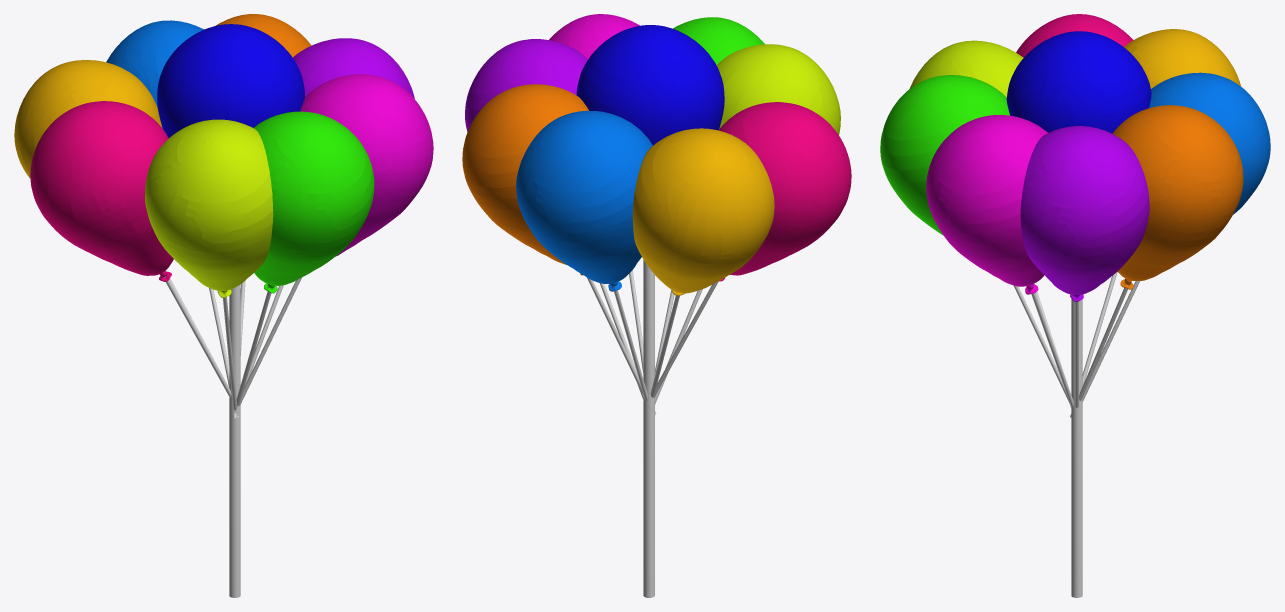
The model's file is many balloons.fbx.
3 renders of one model, left to right at view 1: azimuth 30°, elevation 25°; view 2: azimuth 150°, elevation 25°; view 3: azimuth 270°, elevation 25°, orthographic.
Visible parts, largest first — view 1: Sphere.013, Sphere.009, Sphere.010, Sphere.014, Sphere.016, Sphere.015, Sphere.008, Sphere.011, Cylinder.013, Sphere.012, Cylinder.015, Cylinder.008 (+2 smaller); view 2: Sphere.015, Sphere.011, Sphere.014, Sphere.009, Sphere.012, Sphere.013, Sphere.008, Cylinder.013, Sphere.010, Sphere.016, Cylinder.008, Cylinder.011 (+2 smaller); view 3: Sphere.008, Sphere.012, Sphere.016, Sphere.014, Sphere.010, Sphere.011, Sphere.015, Sphere.013, Cylinder.013, Sphere.009, Cylinder.011, Cylinder.010 (+3 smaller).
Boxes of the visible parts, left/top/right/bottom form: Sphere.013: left=145, top=119, right=273, bottom=297; Sphere.009: left=30, top=101, right=173, bottom=281; Sphere.010: left=254, top=111, right=374, bottom=293; Sphere.014: left=157, top=24, right=304, bottom=137; Sphere.016: left=300, top=74, right=433, bottom=256; Sphere.015: left=14, top=60, right=162, bottom=178; Sphere.008: left=293, top=38, right=414, bottom=98; Sphere.011: left=106, top=20, right=203, bottom=107; Cylinder.013: left=229, top=284, right=240, bottom=597; Sphere.012: left=215, top=14, right=311, bottom=57; Cylinder.015: left=239, top=277, right=301, bottom=405; Cylinder.008: left=164, top=276, right=231, bottom=397; Sphere.015: left=632, top=128, right=774, bottom=295; Sphere.011: left=516, top=110, right=652, bottom=291; Sphere.014: left=576, top=25, right=724, bottom=145; Sphere.009: left=718, top=102, right=851, bottom=281; Sphere.012: left=462, top=84, right=589, bottom=275; Sphere.013: left=716, top=44, right=840, bottom=134; Sphere.008: left=465, top=39, right=587, bottom=131; Cylinder.013: left=643, top=259, right=654, bottom=597; Sphere.010: left=673, top=17, right=764, bottom=65; Sphere.016: left=549, top=14, right=639, bottom=59; Cylinder.008: left=653, top=281, right=718, bottom=397; Cylinder.011: left=587, top=277, right=656, bottom=414; Sphere.008: left=1020, top=126, right=1149, bottom=301; Sphere.012: left=1112, top=105, right=1243, bottom=289; Sphere.016: left=926, top=115, right=1047, bottom=294; Sphere.014: left=1006, top=31, right=1151, bottom=133; Sphere.010: left=880, top=75, right=1009, bottom=235; Sphere.011: left=1149, top=72, right=1270, bottom=214; Sphere.015: left=1124, top=29, right=1240, bottom=88; Sphere.013: left=909, top=40, right=1023, bottom=97; Cylinder.013: left=1071, top=298, right=1082, bottom=597; Sphere.009: left=1016, top=14, right=1133, bottom=57; Cylinder.011: left=1070, top=284, right=1129, bottom=417; Cylinder.010: left=1071, top=281, right=1139, bottom=417.
Size of the model in its own units: 546 by 807 by 512.
